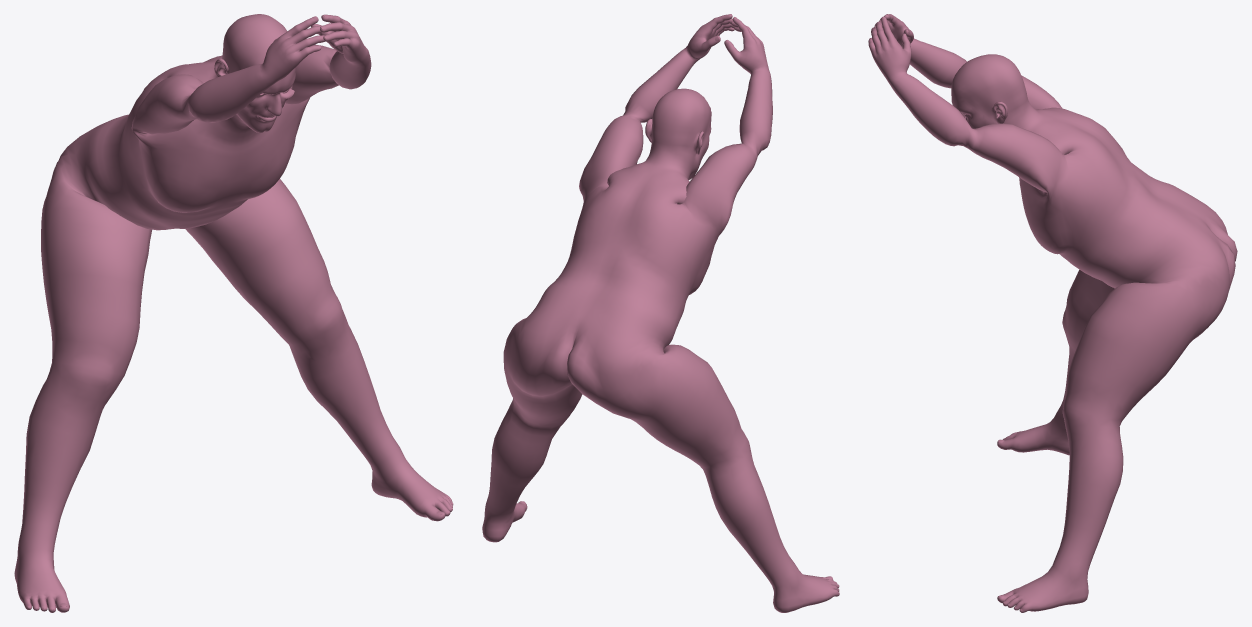
File: pos1.glb
3 renders of one model, left to right at view 1: azimuth 30°, elevation 25°; view 2: azimuth 150°, elevation 25°; view 3: azimuth 270°, elevation 25°, orthographic. The views are drawn at different scales.
Visible parts, largest first — view 1: f_mana; view 2: f_mana; view 3: f_mana.
Boxes of the visible parts, x1,y1,x2,y2 form: f_mana: [14, 14, 453, 612]; f_mana: [482, 14, 839, 612]; f_mana: [868, 14, 1237, 612].
Size of the model in its own units: 112 by 152 by 99.21.
